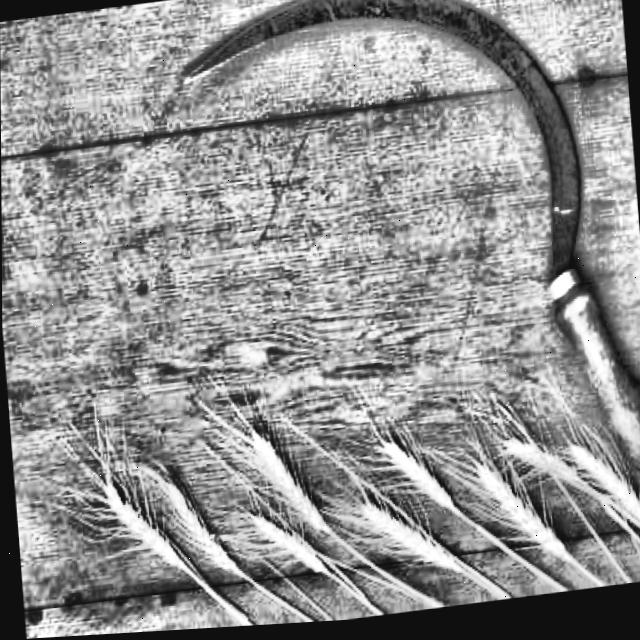celurit: (164, 0, 640, 492)
